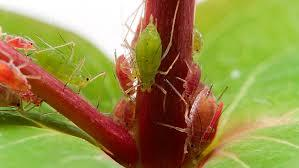Insects: (116, 0, 183, 113), (155, 75, 234, 168), (27, 29, 107, 116), (0, 47, 43, 129), (174, 52, 208, 109), (3, 24, 38, 57)
